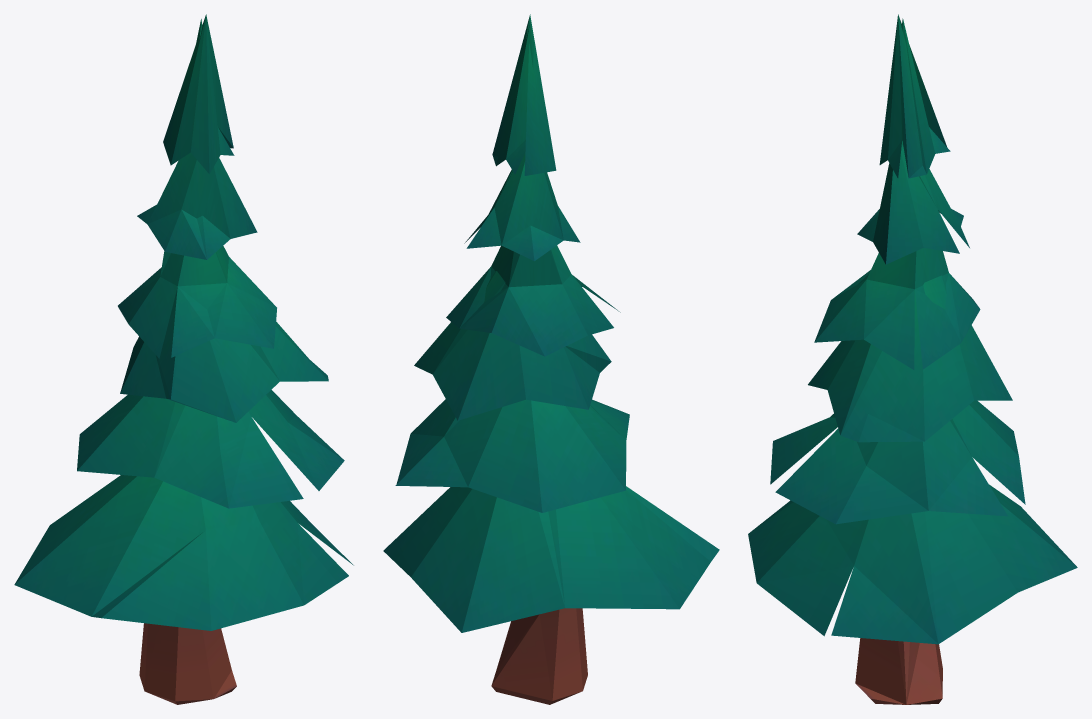
Rendered from pino.glb.
3 views of the same model, side by side, from view 1: azimuth 30°, elevation 25°; view 2: azimuth 150°, elevation 25°; view 3: azimuth 270°, elevation 25° (orthographic). The views are drawn at different scales.
Visible parts, largest first — view 1: Object_2, Object_3; view 2: Object_2, Object_3; view 3: Object_2, Object_3.
Boxes of the visible parts, left/top/right/bottom form: Object_2: left=14, top=14, right=353, bottom=630; Object_3: left=139, top=623, right=236, bottom=704; Object_2: left=383, top=14, right=719, bottom=632; Object_3: left=491, top=608, right=587, bottom=704; Object_2: left=748, top=14, right=1077, bottom=644; Object_3: left=855, top=638, right=942, bottom=704.
Bounding box in the file's own units: 7.5 × 16.07 × 7.04.
Materials: 2 (2 with a texture image).
